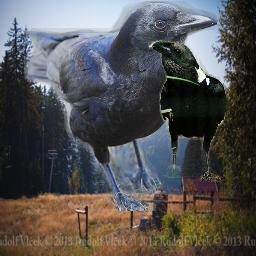Crow: (24, 1, 217, 211), (148, 40, 226, 182)
